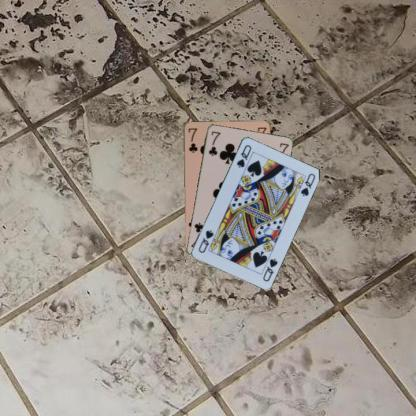7c: (206, 128, 222, 157), (186, 125, 198, 154)
Qs: (260, 256, 279, 283), (234, 142, 252, 169)
